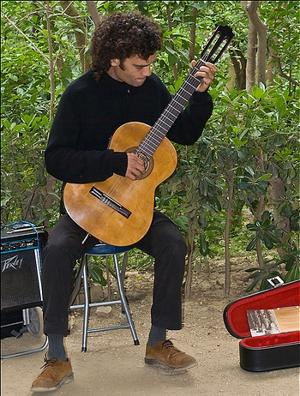person: (31, 10, 219, 390)
